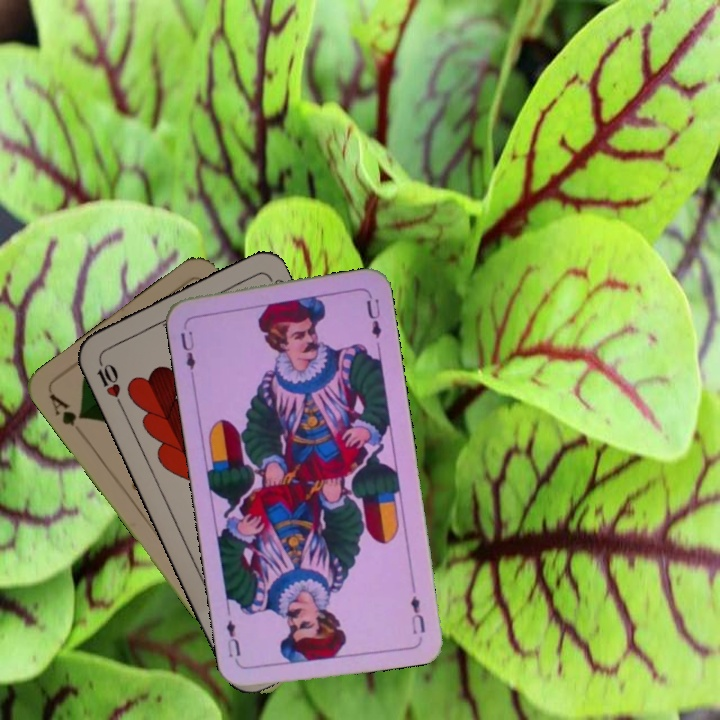EU: (406, 579, 428, 637), (176, 327, 198, 379)
GA: (45, 389, 88, 430)
H10: (92, 353, 125, 409)
